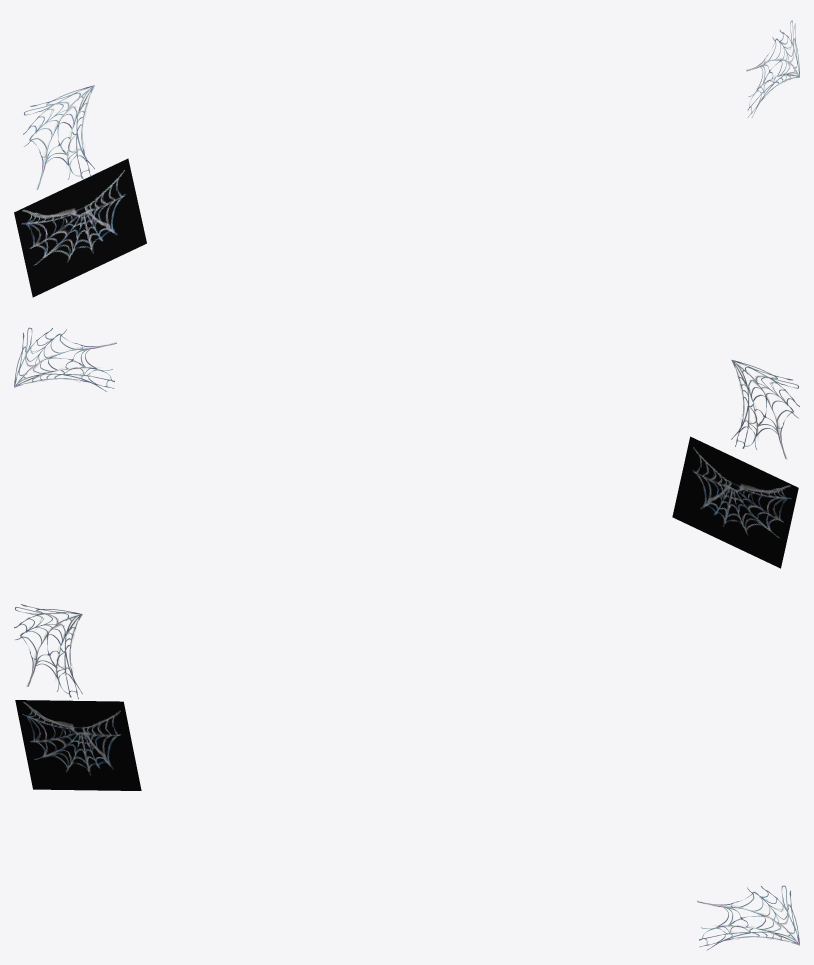
Rendered from spiderwebs.glb.
3 renders of one model, top to bottom at view 1: azimuth 30°, elevation 25°; view 2: azimuth 150°, elevation 25°; view 3: azimuth 330°, elevation 25°, orthographic. The views are drawn at different scales.
Visible parts, largest first — view 1: Untitled_Artwork.001, dsf.006, dsf.001; view 2: Untitled_Artwork.001, dsf.006, dsf.001; view 3: Untitled_Artwork.001, dsf.001, dsf.006.
Boxes of the visible parts, x1,y1,x2,y2 form: Untitled_Artwork.001: [14, 158, 146, 297]; dsf.006: [23, 85, 94, 189]; dsf.001: [746, 20, 799, 117]; Untitled_Artwork.001: [672, 436, 798, 568]; dsf.006: [731, 359, 799, 459]; dsf.001: [14, 327, 116, 391]; Untitled_Artwork.001: [15, 700, 141, 790]; dsf.001: [697, 885, 799, 950]; dsf.006: [14, 604, 82, 699].
Size of the model in its own units: 63.53 by 15.24 by 3.78.
Materials: 2 (2 with a texture image).
